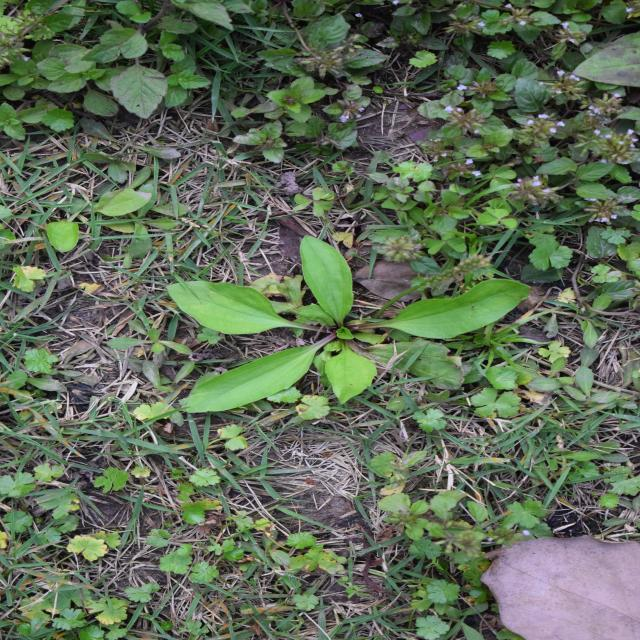plantain: (207, 175, 416, 528)
